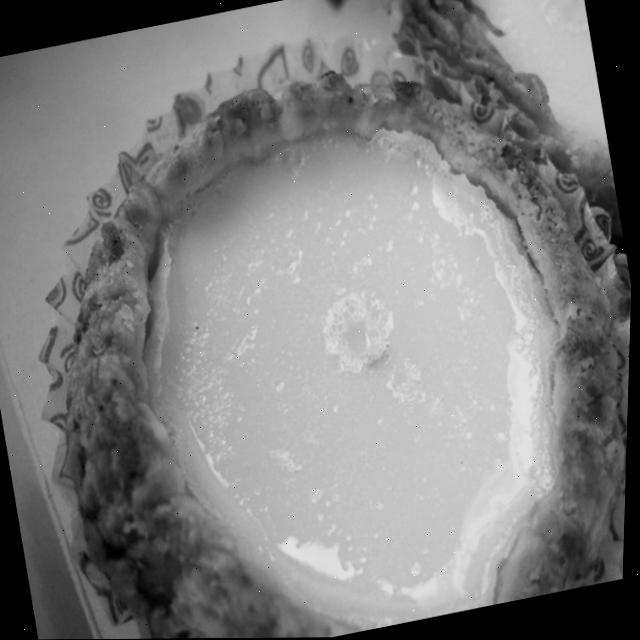炸货点心: (12, 47, 639, 640)
蛋糕甜品: (12, 47, 639, 640)
